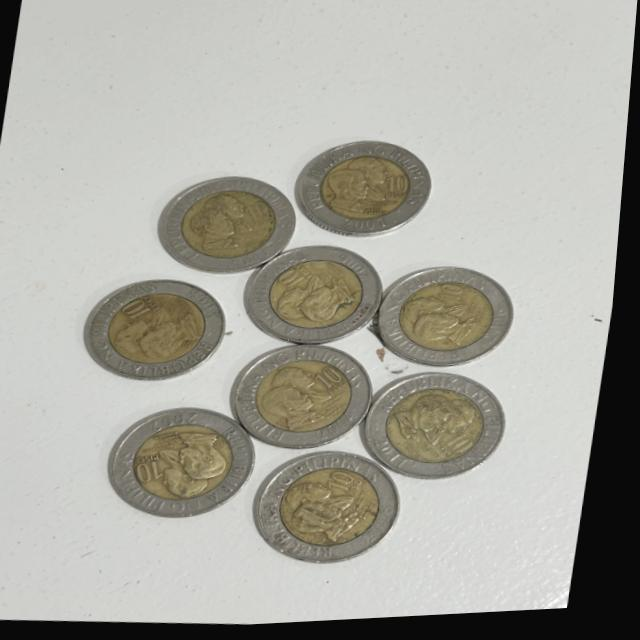10_Old_Front: (130, 445, 190, 495), (318, 368, 362, 400)
